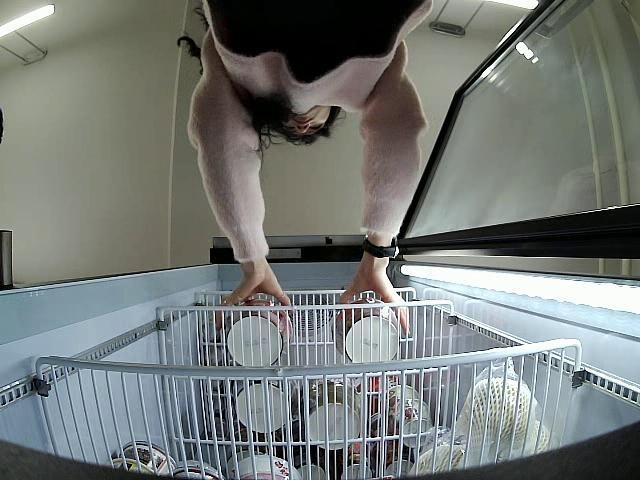01_ShinRamen_L: (226, 301, 292, 368), (338, 300, 400, 363)
